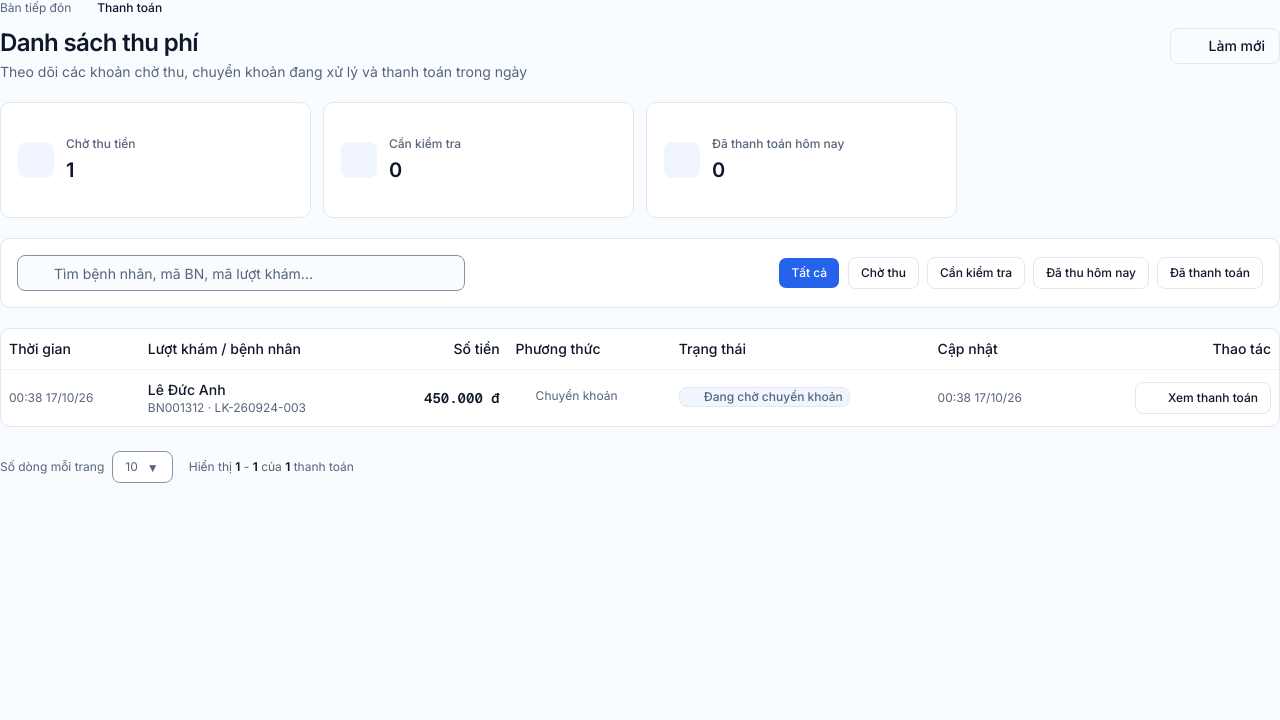
Test: PaymentWorklistPage › opens the same pending payment from the worklist
Expected: the text "Lê Đức Anh" is shown, left=148, top=380, right=226, bottom=398
Expected: the text "Đang chờ chuyển khoản" is shown, left=679, top=386, right=850, bottom=406
Click the button "Xem thanh toán": (1203,398) left=1135, top=382, right=1271, bottom=414
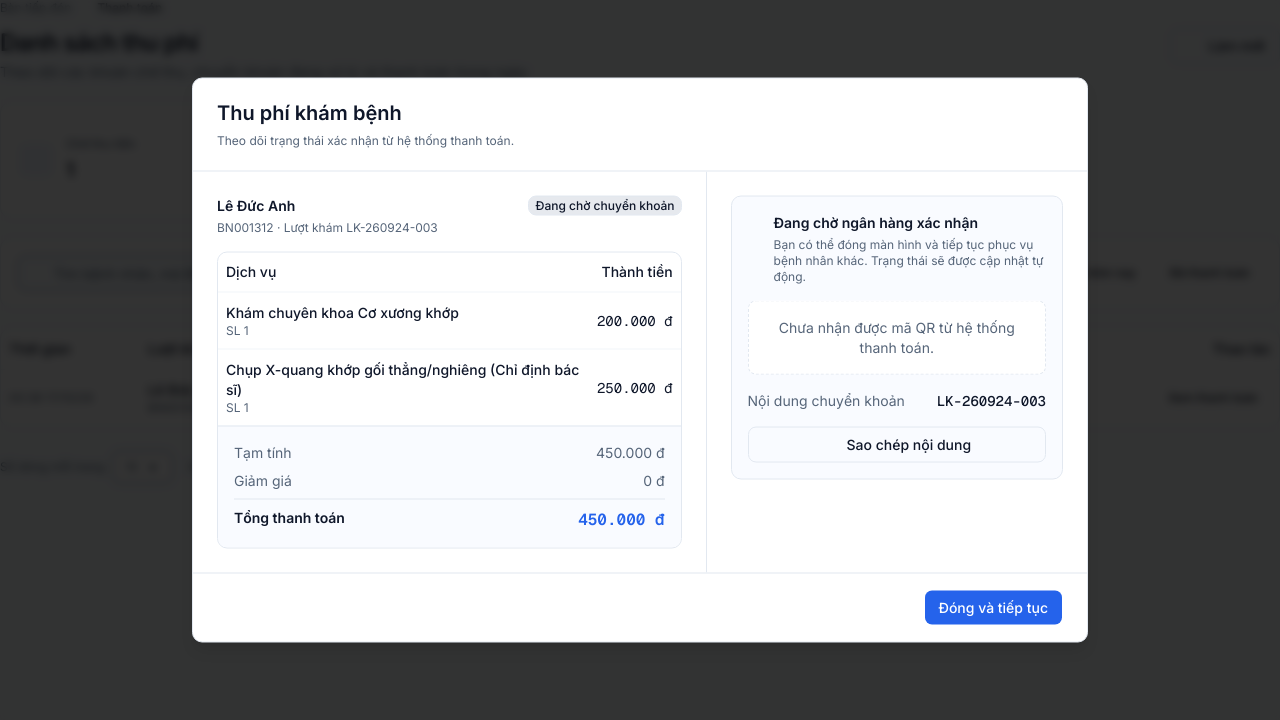
Now the text "Đang chờ ngân hàng xác nhận" is shown, box left=774, top=213, right=978, bottom=230
